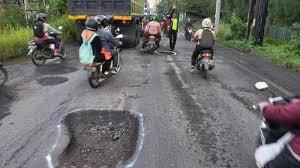Pothole: (58, 100, 147, 168), (34, 57, 86, 95), (154, 41, 177, 58)
